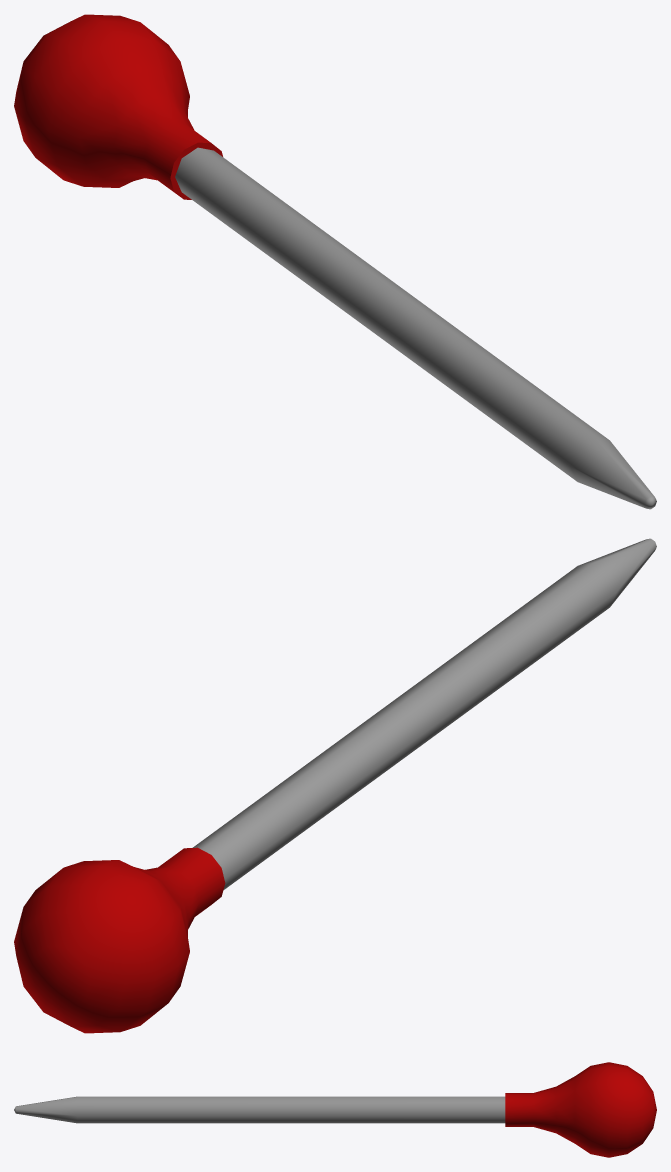
File: SM_胶头滴管_004.fbx
The picture shows the model from 3 angles, top to bottom: view 1: azimuth 30°, elevation 25°; view 2: azimuth 150°, elevation 25°; view 3: azimuth 270°, elevation 25°; orthographic projection. The views are drawn at different scales.
Parts seen in each view (by area): view 1: SM_胶头滴管_004; view 2: SM_胶头滴管_004; view 3: SM_胶头滴管_004.
Part boxes in pixels (x1,y1,x2,y2): SM_胶头滴管_004: (14, 14, 656, 509); SM_胶头滴管_004: (14, 538, 656, 1033); SM_胶头滴管_004: (14, 1062, 656, 1157).
Bounding box in the file's own units: 0.0137 × 0.0137 × 0.0914.
